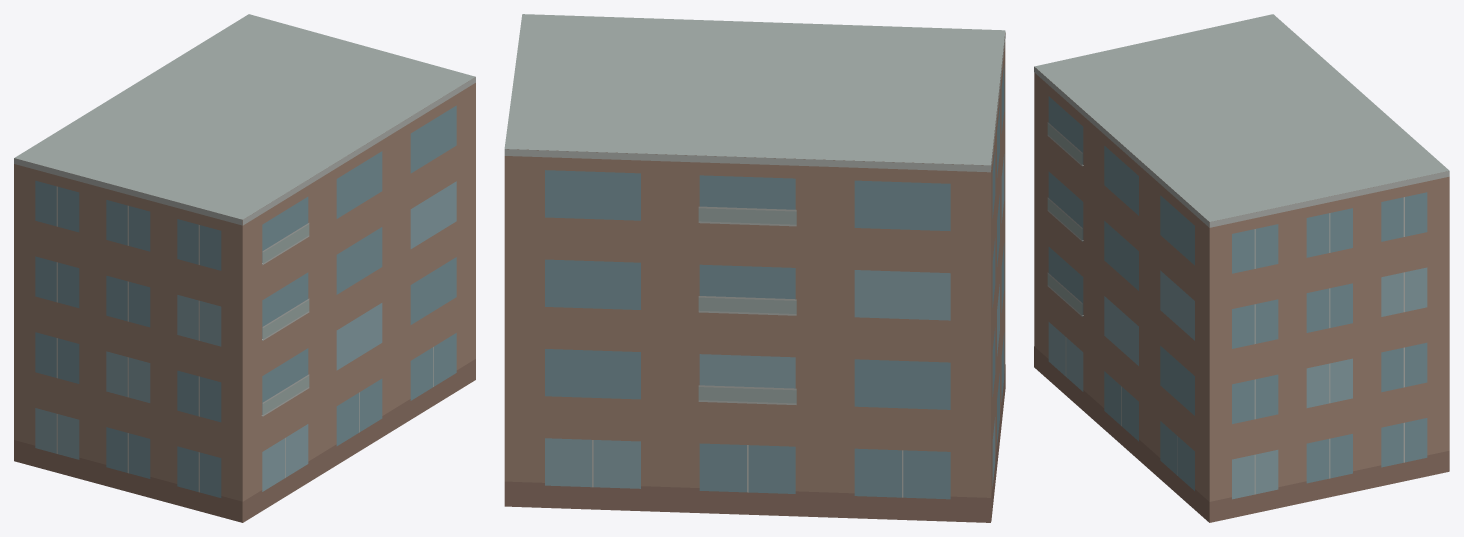
The model's file is survey-upis-32687553.glb.
3 views of the same model, side by side, from view 1: azimuth 30°, elevation 25°; view 2: azimuth 150°, elevation 25°; view 3: azimuth 270°, elevation 25° (orthographic). The views are drawn at different scales.
Parts seen in each view (by area): view 1: survey-upis-32687553.tmp; view 2: survey-upis-32687553.tmp; view 3: survey-upis-32687553.tmp.
Boxes of the visible parts, left/top/right/bottom form: survey-upis-32687553.tmp: left=14, top=14, right=475, bottom=522; survey-upis-32687553.tmp: left=504, top=14, right=1005, bottom=522; survey-upis-32687553.tmp: left=1034, top=14, right=1449, bottom=522.
Bounding box in the file's own units: 18.7 × 12.6 × 15.78.
